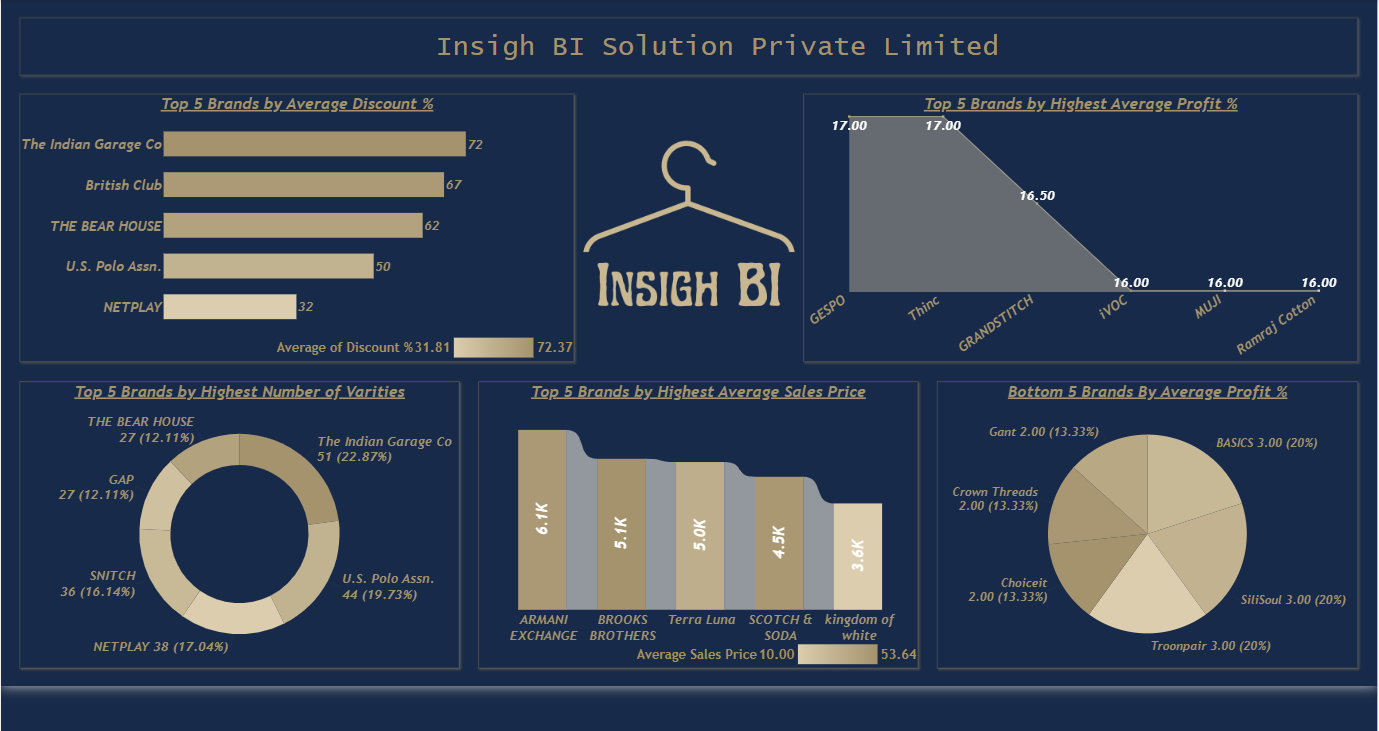

The page's visual inventory and layout, read from the dashboard file:
{"tool":"powerbi","page":{"name":"Details","canvas":[6912,3456],"ordinal":1},"visuals":[{"type":"ScrollingTextVisual1448795304508","fields":{"Category":["Men+Tshirt.Brand"]},"box":[96,96,6720,288],"z":0},{"type":"barChart","title":"Top 5 Brands by Average Discount %","fields":{"Category":["Men+Tshirt.Brand"],"Y":["Avg(Men+Tshirt.Discount %)"]},"box":[96,480,2784,1344],"z":1000},{"type":"donutChart","title":"Top 5 Brands by Highest Number of Varities","fields":{"Category":["Men+Tshirt.Brand"],"Y":["Count(Men+Tshirt.Title)"]},"box":[96,1920,2208,1440],"z":2000},{"type":"ribbonChart","title":"Top 5 Brands by Highest Average Sales Price","fields":{"Category":["Men+Tshirt.Brand"],"Y":["Avg(Men+Tshirt.Sales Price)"]},"box":[2400,1920,2208,1440],"z":3000},{"type":"areaChart","title":"Top 5 Brands by Highest  Average Profit %","fields":{"Category":["Men+Tshirt.Brand"],"Y":["Avg(Men+Tshirt.Profit %)"]},"box":[4032,480,2784,1344],"z":4000},{"type":"pieChart","title":"Bottom 5 Brands By Average Profit %","fields":{"Category":["Men+Tshirt.Brand"],"Y":["Avg(Men+Tshirt.Profit %)"]},"box":[4704,1920,2112,1440],"z":5000}]}

Visuals, with their boxes on the page's 6912x3456 design canvas (x1, y1, x2, y2). These are canvas units, not pixel positions in the 1379x731 screenshot, which may show the page scaled, cropped or inside an application window:
ScrollingTextVisual1448795304508 - Men+Tshirt.Brand: Rect(96, 96, 6816, 384)
"Top 5 Brands by Average Discount %" barChart: Rect(96, 480, 2880, 1824)
"Top 5 Brands by Highest Number of Varities" donutChart: Rect(96, 1920, 2304, 3360)
"Top 5 Brands by Highest Average Sales Price" ribbonChart: Rect(2400, 1920, 4608, 3360)
"Top 5 Brands by Highest  Average Profit %" areaChart: Rect(4032, 480, 6816, 1824)
"Bottom 5 Brands By Average Profit %" pieChart: Rect(4704, 1920, 6816, 3360)
